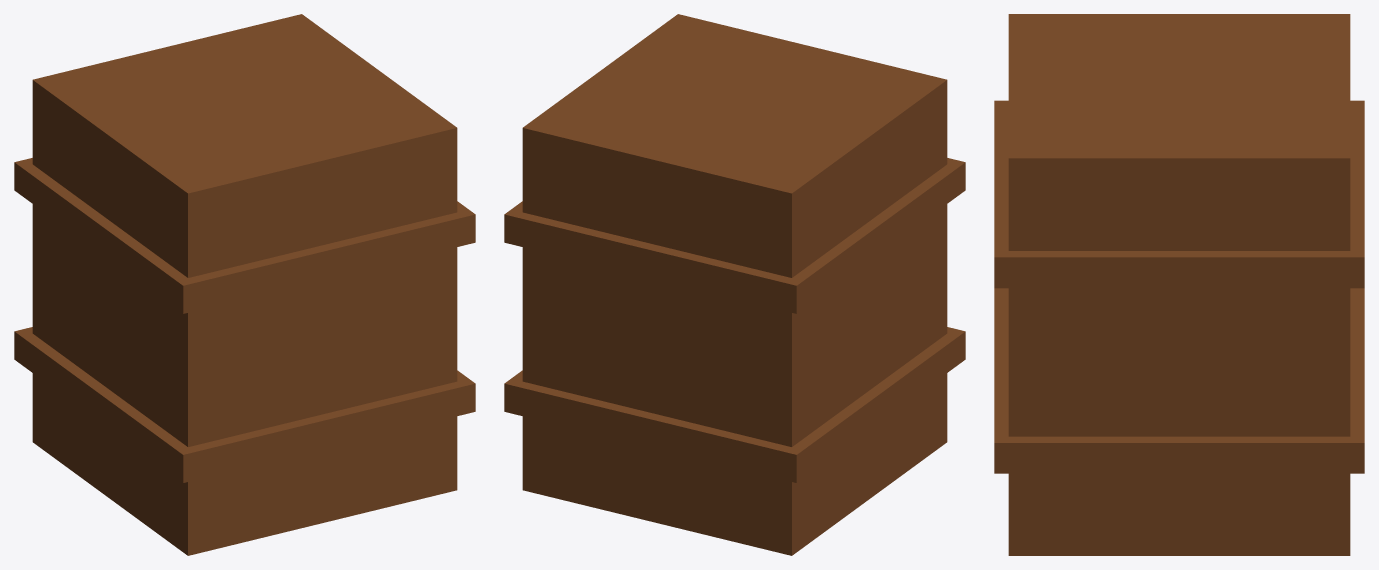
The model's file is barrel.obj.
The picture shows the model from 3 angles, left to right: view 1: azimuth 30°, elevation 25°; view 2: azimuth 150°, elevation 25°; view 3: azimuth 270°, elevation 25°; orthographic projection. The views are drawn at different scales.
Visible parts, largest first — view 1: body, band2, band1; view 2: body, band2, band1; view 3: body, band2, band1.
Boxes of the visible parts, left/top/right/bottom form: body: left=32, top=14, right=457, bottom=555; band2: left=14, top=158, right=475, bottom=313; band1: left=14, top=327, right=475, bottom=482; body: left=522, top=14, right=947, bottom=555; band2: left=504, top=158, right=965, bottom=313; band1: left=504, top=327, right=965, bottom=482; body: left=1008, top=14, right=1350, bottom=555; band2: left=994, top=100, right=1364, bottom=288; band1: left=994, top=288, right=1364, bottom=473.
Bounding box in the file's own units: 0.76 × 0.9 × 0.76.
